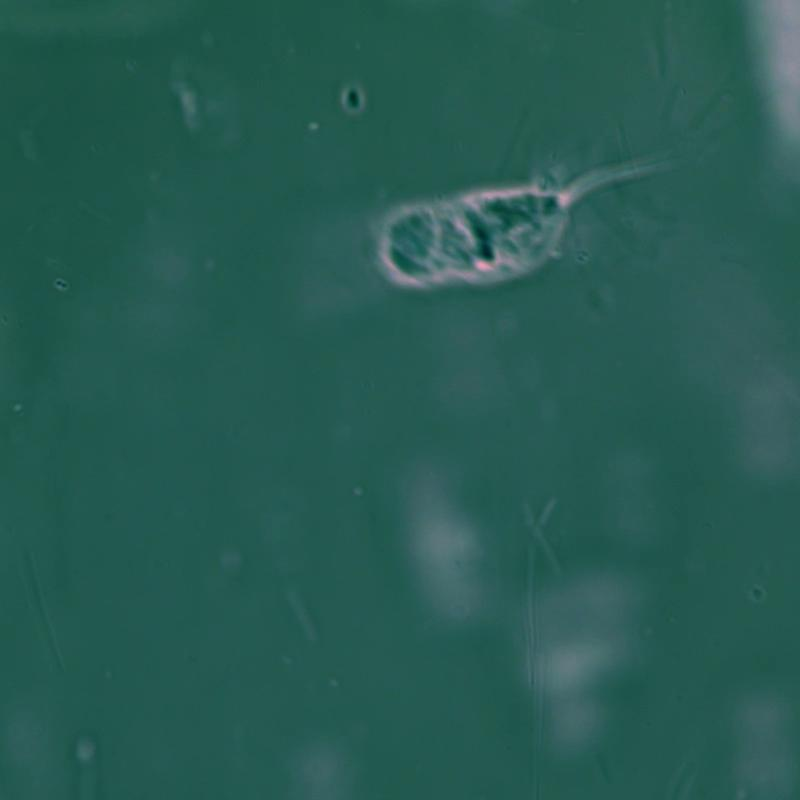depth:60: (344, 134, 744, 303)
